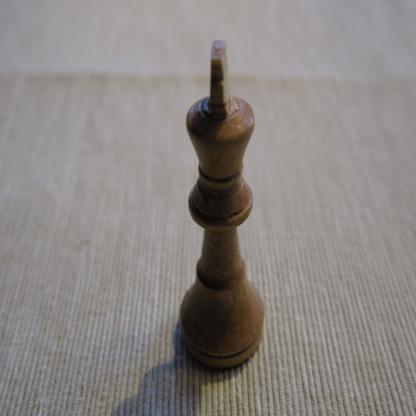white-king: (178, 40, 266, 372)
